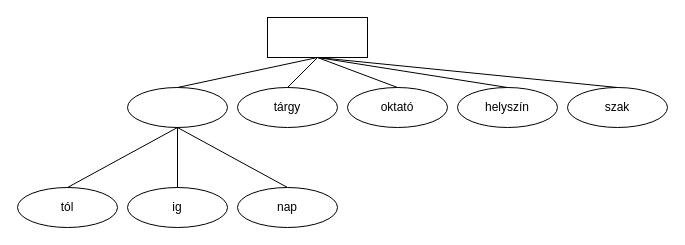
This 685x245 diagram has some shape labels left out. The centre of each missing label's shape, as x and y in pixels:
"időpont" goes at (177,107).
"óra" goes at (317,37).
